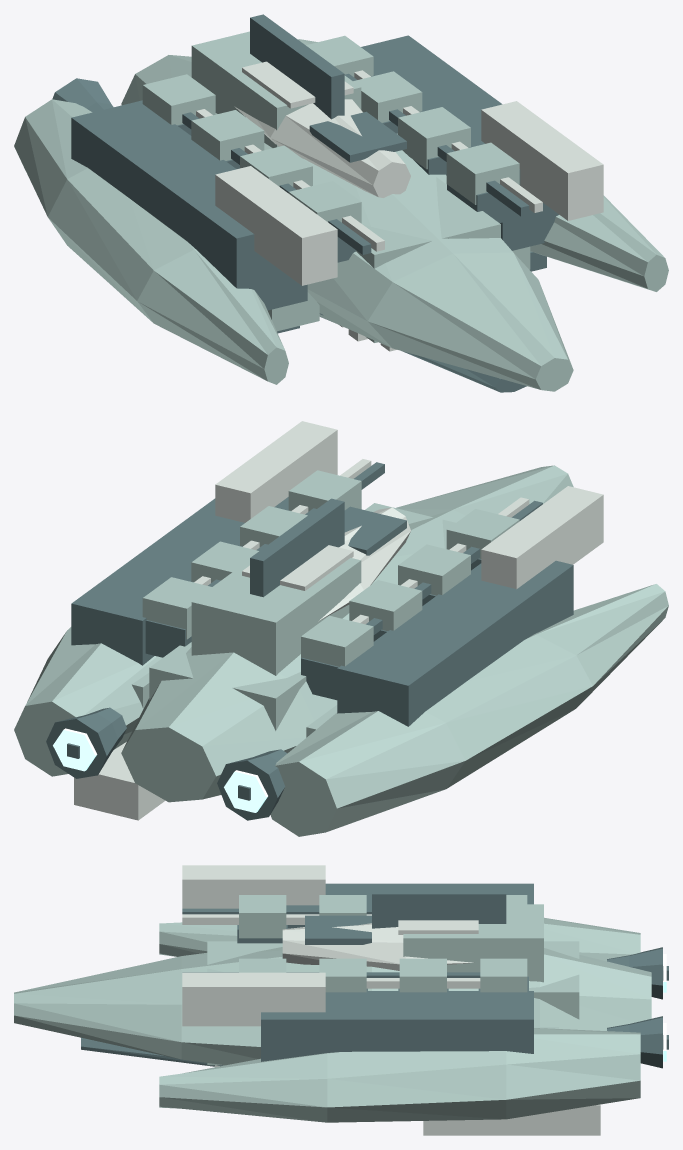
3 renders of one model, top to bottom at view 1: azimuth 30°, elevation 25°; view 2: azimuth 150°, elevation 25°; view 3: azimuth 270°, elevation 25°, orthographic. The views are drawn at different scales.
Bounding box in the file's own units: 17.31 × 8.5 × 26.07.
